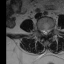CCS_normal: (44, 27, 46, 37)
LFS_normal: (48, 26, 51, 34)
LLS_normal: (46, 27, 48, 36)
RFS_normal: (40, 26, 42, 34)
RLS_normal: (42, 27, 44, 36)
